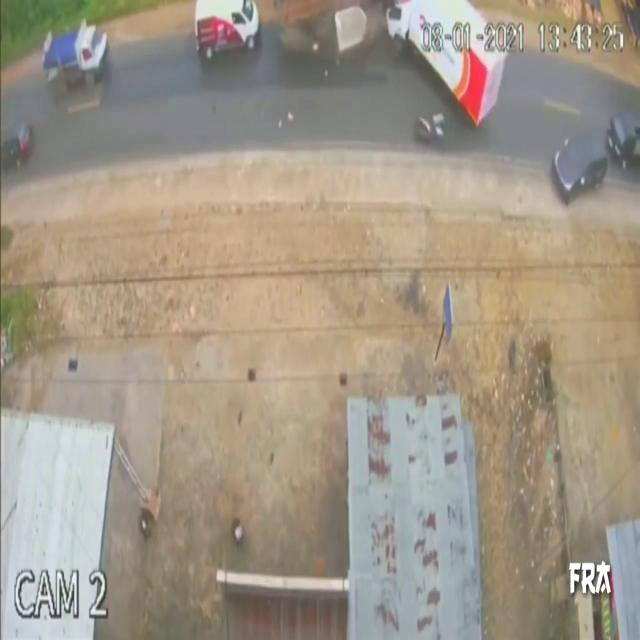accident: (278, 0, 508, 130), (278, 0, 374, 81)
